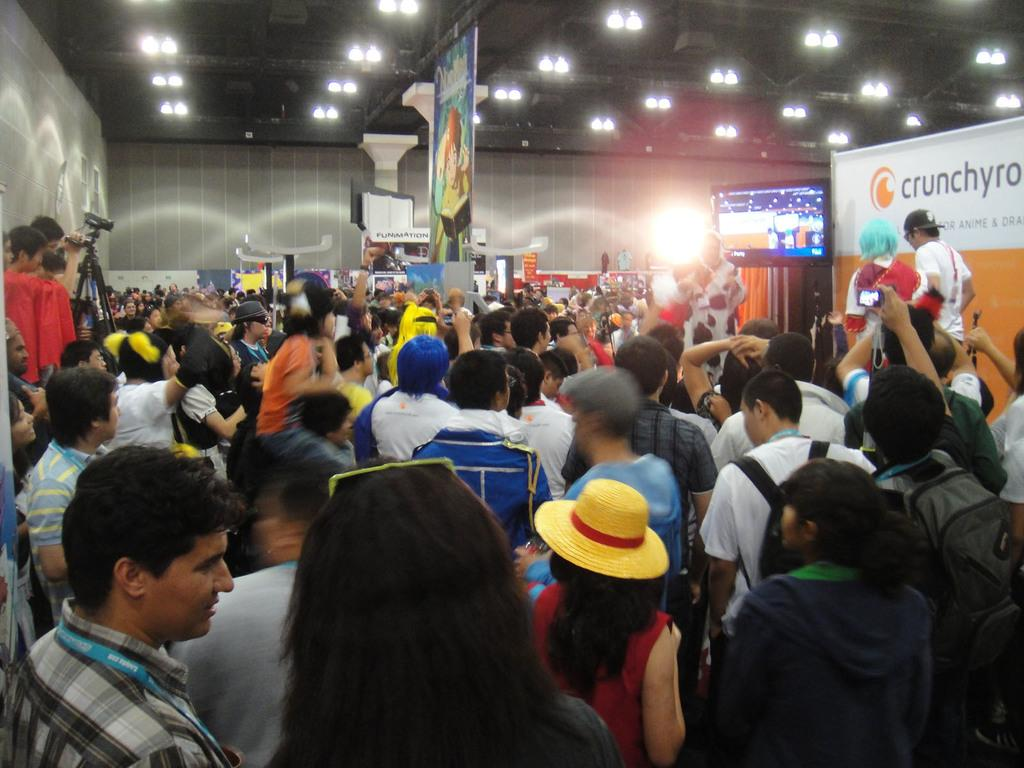Hat: (534, 479, 669, 582), (900, 210, 946, 231)
